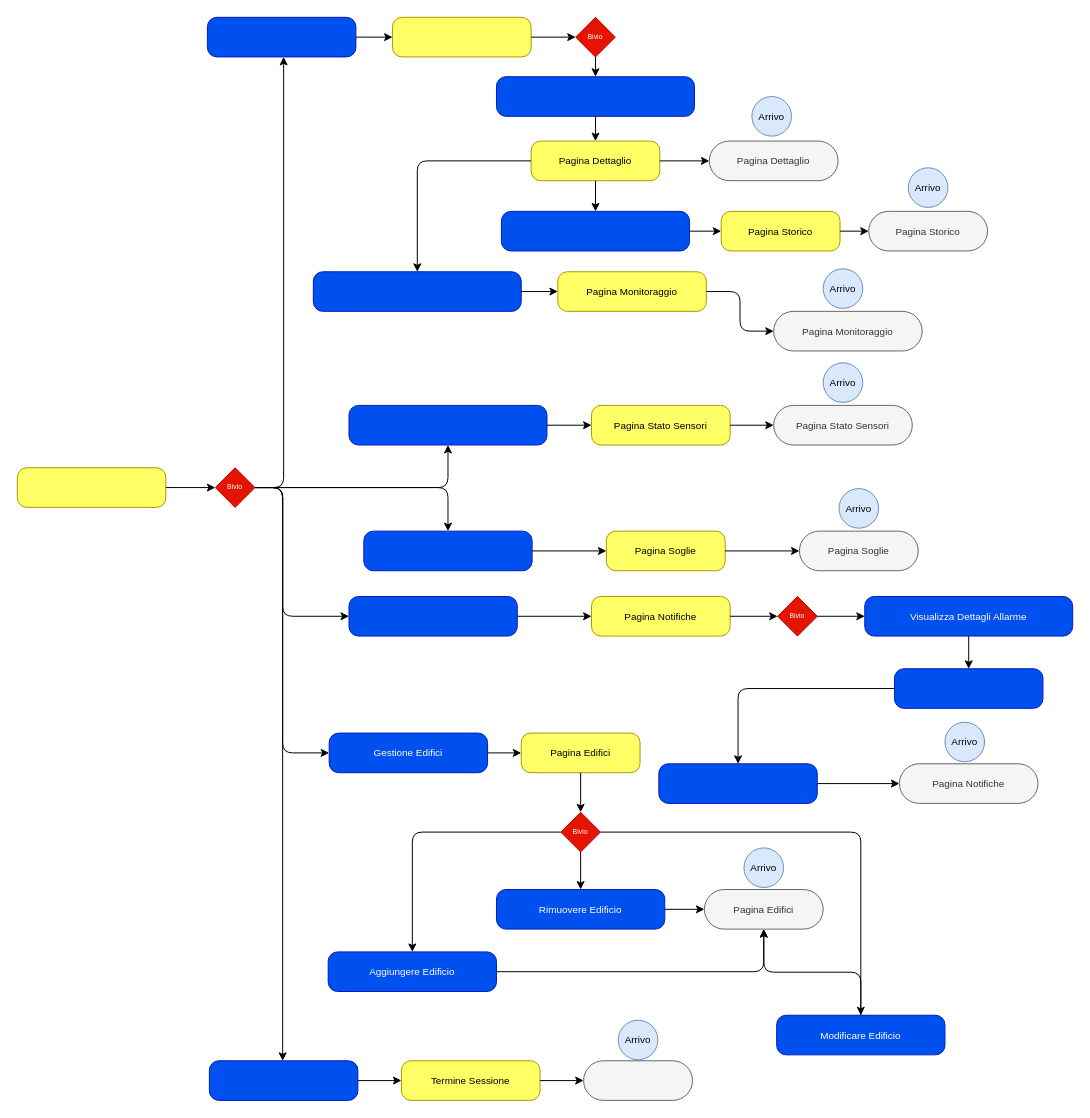
This 1090x1118 diagram has some shape labels left out. The centre of each missing label's shape, as x and y in pixels:
"Chiudere Notifica" belongs at point 737,783.
"Click su Logout" belongs at point 283,1080.
"Configurare Soglie" belongs at point 447,550.
"Dashboard Operatore" belongs at point 91,487.
"Gestione Notifiche" belongs at point 432,615.
"HomePage" belongs at point 638,1080.
"Monitoraggio Tempo Reale" belongs at point 416,291.
"Presa in Carico" belongs at point 968,688.
"Ricerca Edifici" belongs at point 281,36.
"Risultati ricerca" belongs at point 461,36.
"Visualizza Dettaglio Edificio" belongs at point 594,96.
"Visualizza Storico Dati" belongs at point 595,230.
"Visualizzare Stato Sensori" belongs at point 447,424.
